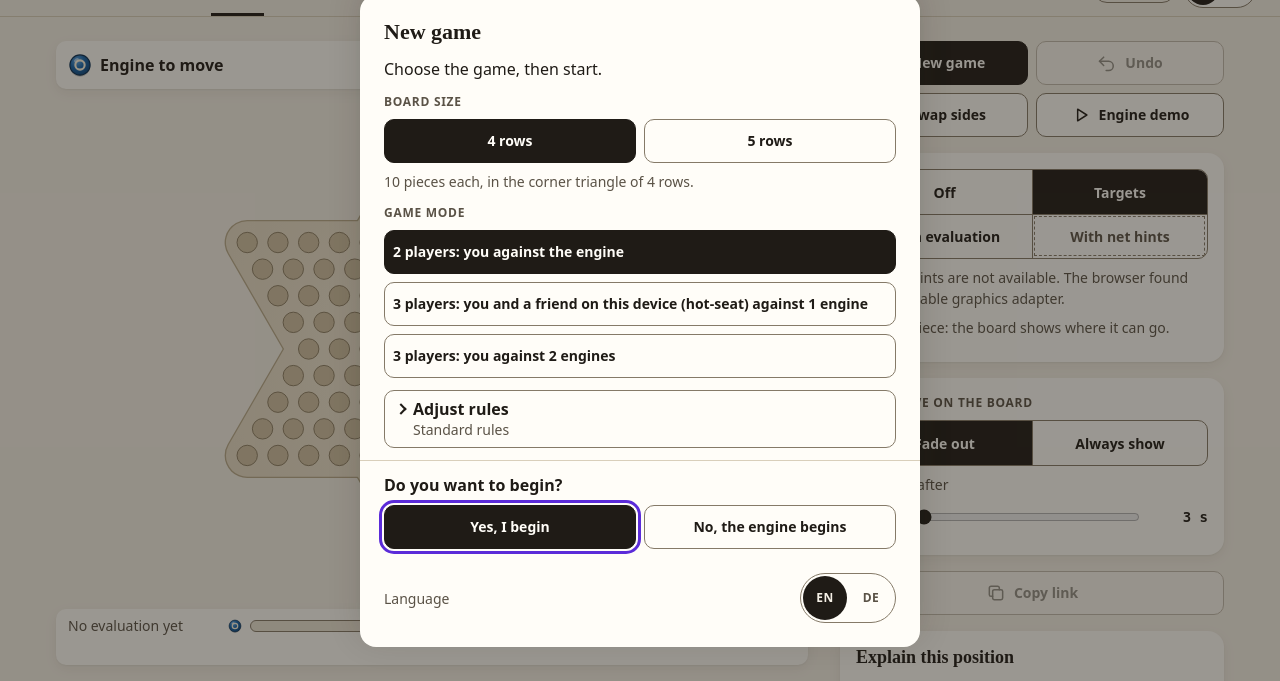
it: the play screen › shows the board of 121 cells and 20 pieces, the engine card and the first engine move
Click the button "No, the engine begins" at (770,527), box [644, 505, 896, 549]
(page scrolled)
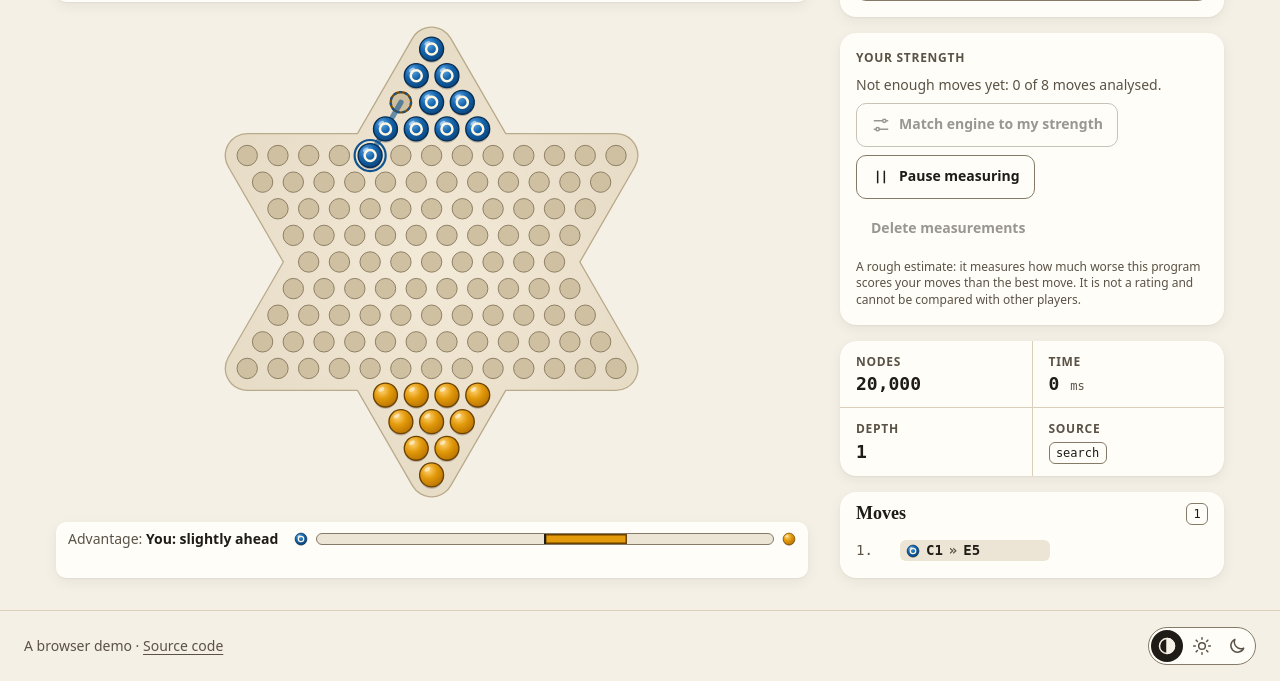
Expected: the element with class "ml-telemetry" is shown, [840, 341, 1224, 476]
